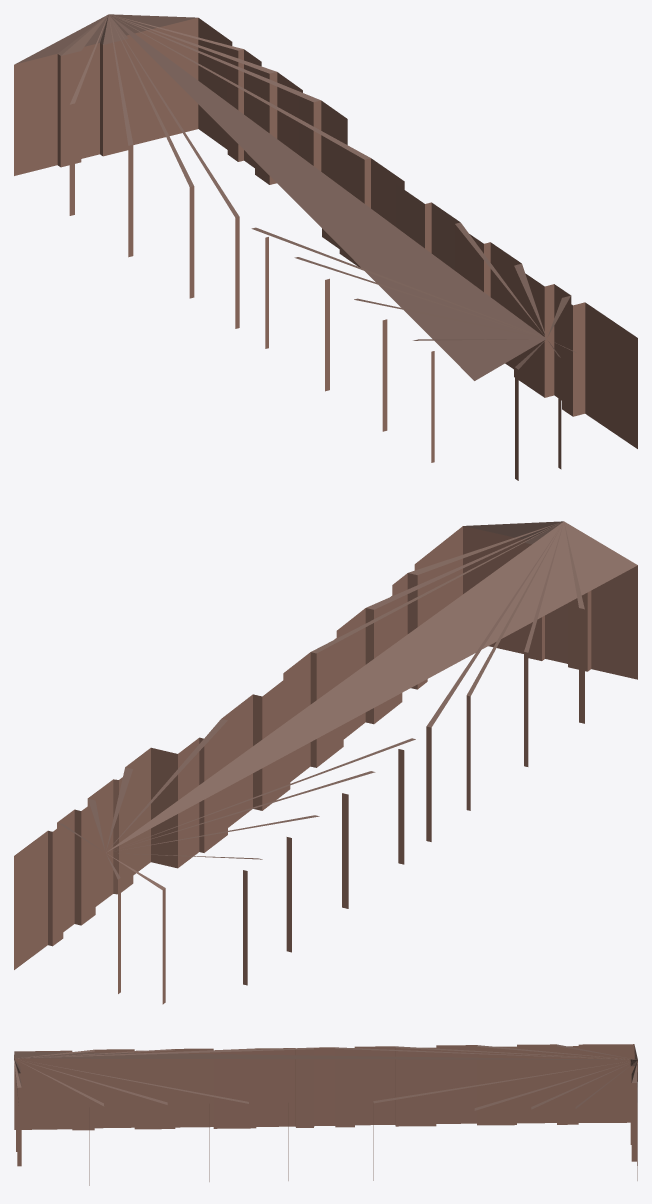
Rendered from c_1631_17836_buildings_residential.glb.
3 renders of one model, top to bottom at view 1: azimuth 30°, elevation 25°; view 2: azimuth 150°, elevation 25°; view 3: azimuth 270°, elevation 25°, orthographic. The views are drawn at different scales.
Parts seen in each view (by area): view 1: geometry_0; view 2: geometry_0; view 3: geometry_0.
Boxes of the visible parts, x1,y1,x2,y2 form: geometry_0: (14,14,637,480); geometry_0: (14,521,637,1004); geometry_0: (14,1044,637,1185).
Size of the model in its own units: 27.44 by 18.36 by 108.
